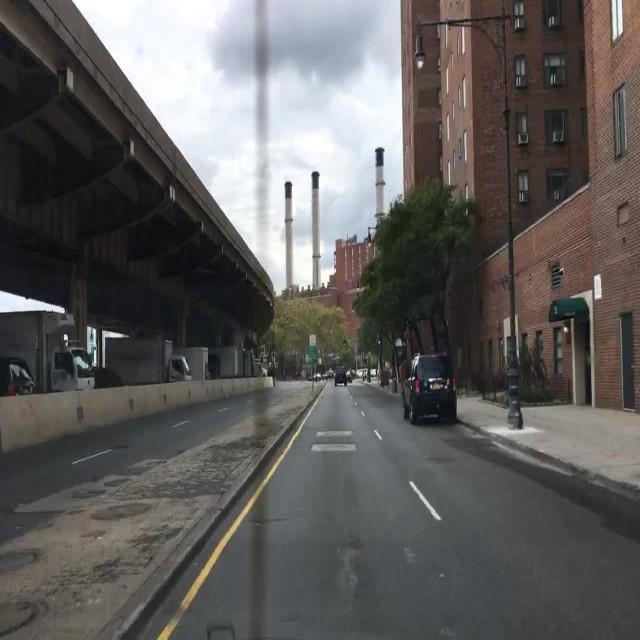normal: (385, 333, 464, 437)
